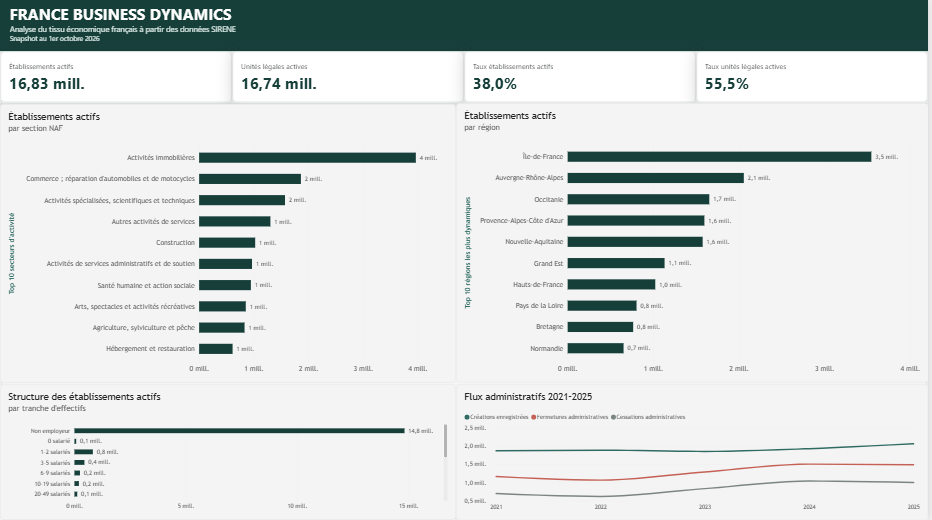

This screenshot's page, from the dashboard's own definition file:
{"tool":"powerbi","page":{"name":"Vue d'ensemble","canvas":[1920,1080],"ordinal":0},"visuals":[{"type":"shape","box":[0,0,1920,1080],"z":0},{"type":"shape","box":[0,0,1920,110],"z":1000},{"type":"textbox","box":[0,0,1920,110],"z":2000},{"type":"cardVisual","fields":{"Data":["_Measures.Établissements actifs"]},"box":[0,110,480,107],"z":3000},{"type":"cardVisual","fields":{"Data":["_Measures.Unités légales actives"]},"box":[480,110,480,107],"z":4000},{"type":"cardVisual","fields":{"Data":["_Measures.Taux établissements actifs"]},"box":[960,110,480,107],"z":5000},{"type":"cardVisual","fields":{"Data":["_Measures.Taux unités légales actives"]},"box":[1440,110,480,107],"z":6000},{"type":"clusteredBarChart","title":"Établissements actifs ","fields":{"Category":["DimActivity.NafSectionLabel"],"Y":["_Measures.Établissements actifs"]},"box":[0,218.3,943.3,576.7],"z":7000},{"type":"clusteredBarChart","title":"Établissements actifs","fields":{"Category":["DimGeography.RegionName"],"Y":["_Measures.Établissements actifs"]},"box":[942.5,217.5,977.5,577.5],"z":8000},{"type":"clusteredBarChart","title":"Structure des établissements actifs","fields":{"Category":["DimWorkforce.WorkforceLabel"],"Y":["_Measures.Établissements actifs"]},"box":[0,798.6,942.9,281.4],"z":9000},{"type":"lineChart","title":"Flux administratifs 2021–2025","fields":{"Category":["FactAdministrativeEvents.EventYear"],"Y":["_Measures.Créations enregistrées","_Measures.Fermetures administratives","_Measures.Cessations administratives"]},"box":[943.3,798.3,976.7,281.7],"z":10000}]}

Visuals, with their boxes in screenshot pixels (x1, y1, x2, y2), scaled from the page's 1920x1080 canvas onto the 932x520 screenshot:
shape: select_region(0, 0, 931, 519)
shape: select_region(0, 0, 931, 53)
textbox: select_region(0, 0, 931, 53)
cardVisual - _Measures.Établissements actifs: select_region(0, 53, 233, 104)
cardVisual - _Measures.Unités légales actives: select_region(233, 53, 466, 104)
cardVisual - _Measures.Taux établissements actifs: select_region(466, 53, 699, 104)
cardVisual - _Measures.Taux unités légales actives: select_region(699, 53, 931, 104)
"Établissements actifs " clusteredBarChart: select_region(0, 105, 458, 383)
"Établissements actifs" clusteredBarChart: select_region(458, 105, 931, 383)
"Structure des établissements actifs" clusteredBarChart: select_region(0, 385, 458, 519)
"Flux administratifs 2021–2025" lineChart: select_region(458, 384, 931, 519)
